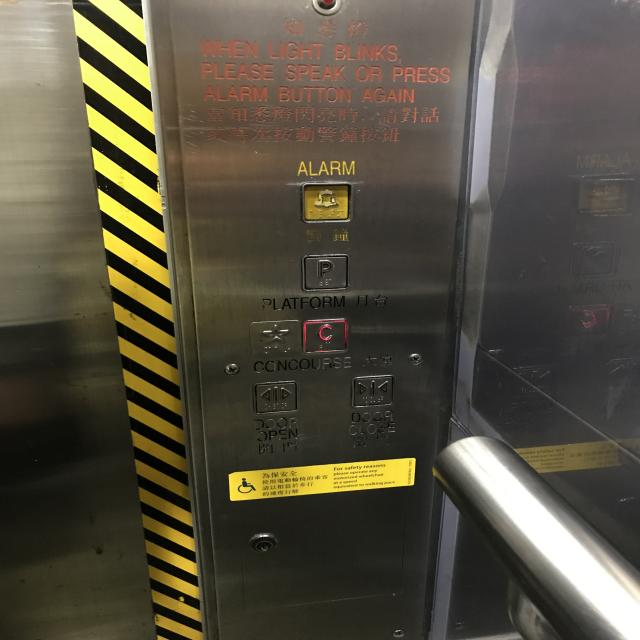C: (301, 317, 350, 354)
P: (299, 253, 351, 292)
alarm: (299, 181, 354, 223)
close: (348, 372, 398, 410)
open: (252, 378, 300, 416)
s: (247, 318, 305, 360)
